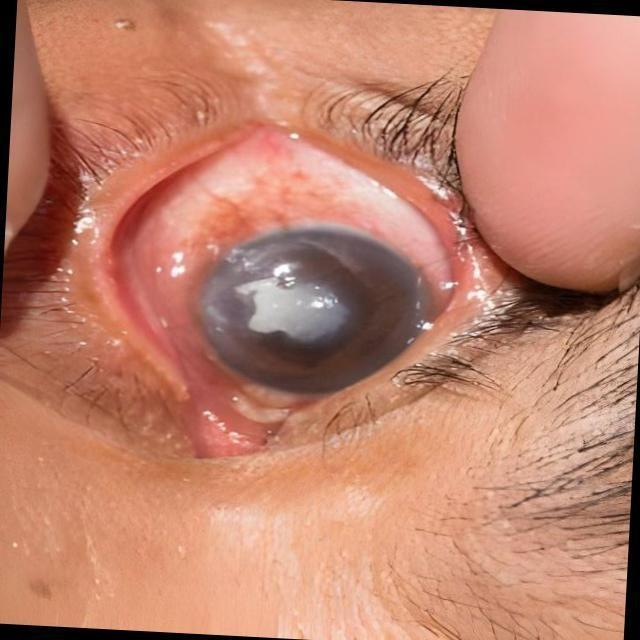Cataract: (194, 223, 445, 395)
